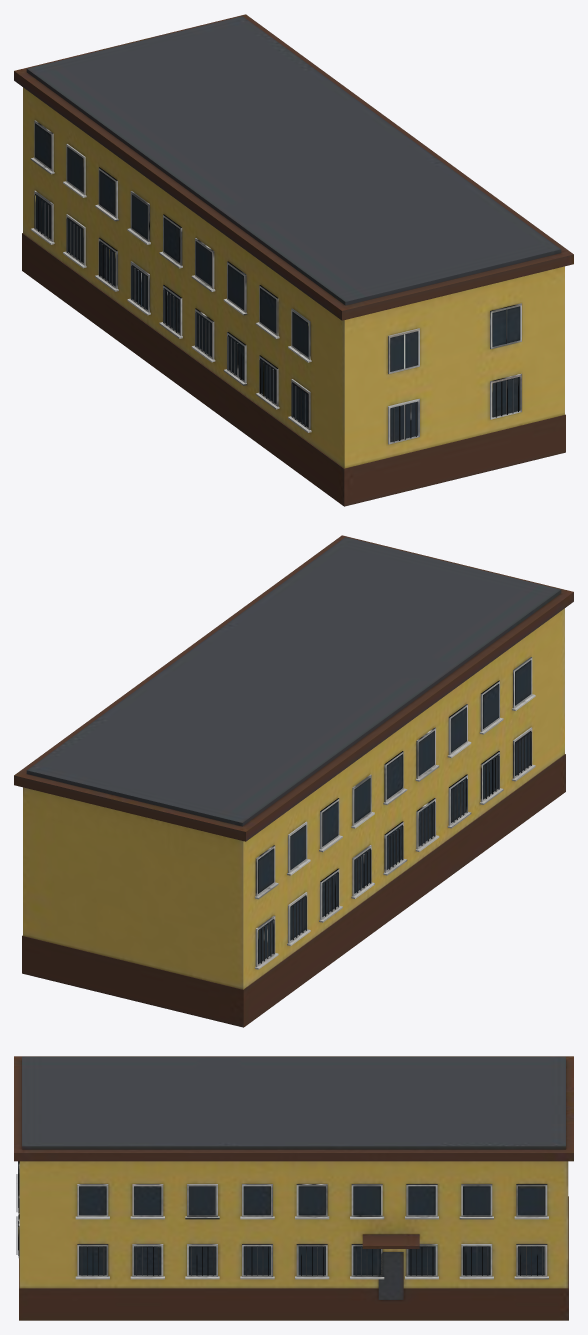
The model's file is mineral.glb.
3 views of the same model, one above another, from view 1: azimuth 30°, elevation 25°; view 2: azimuth 150°, elevation 25°; view 3: azimuth 270°, elevation 25° (orthographic). The views are drawn at different scales.
Visible parts, largest first — view 1: mineral; view 2: mineral; view 3: mineral.
Part boxes in pixels (x1=…): mineral: x1=14, y1=14, x2=573, y2=506; mineral: x1=14, y1=535, x2=573, y2=1027; mineral: x1=14, y1=1056, x2=573, y2=1320.
Size of the model in its own units: 10.95 by 8.35 by 24.5.
1 material, 1 textured.
